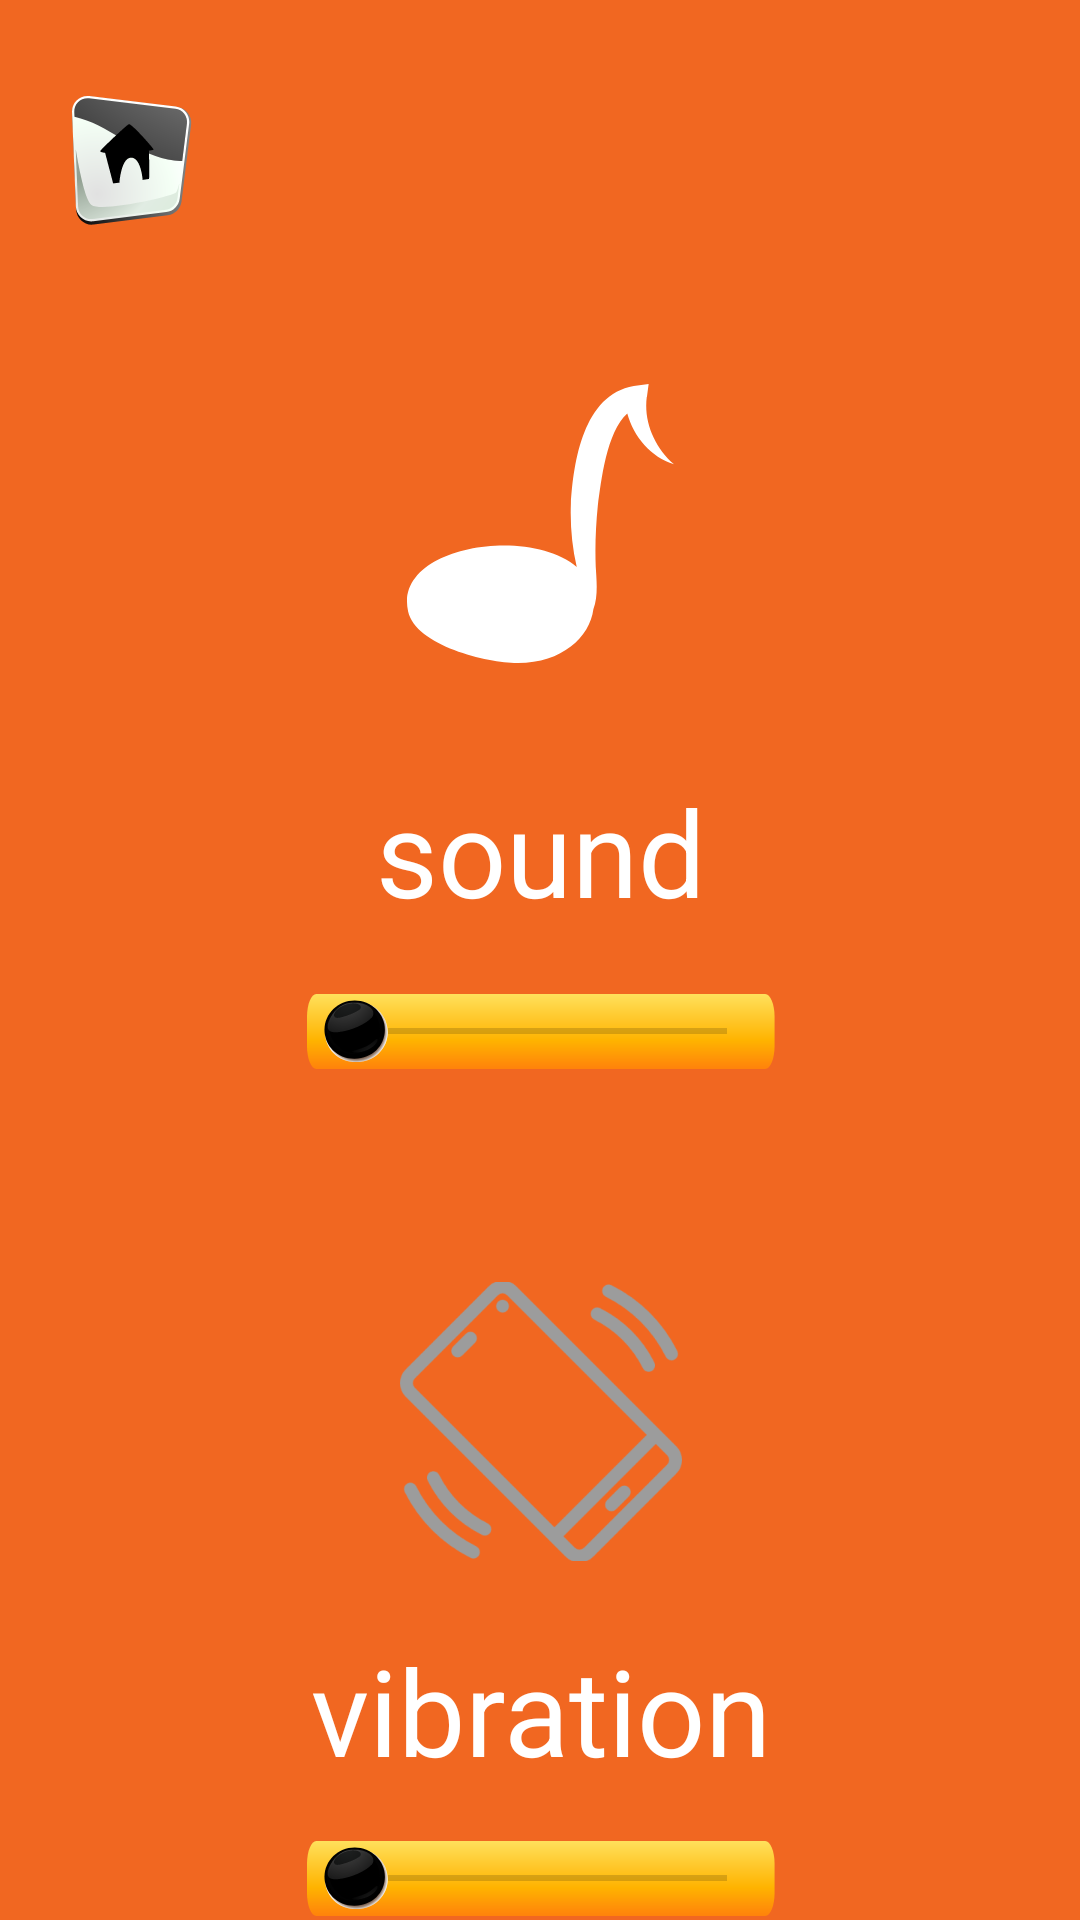

Icon bounding boxes for this 1080×1920 phone screenshot, format (x1, y1, x2, y2):
home: (72, 96, 191, 225)
music key: (407, 384, 674, 663)
phone: (400, 1282, 682, 1561)
